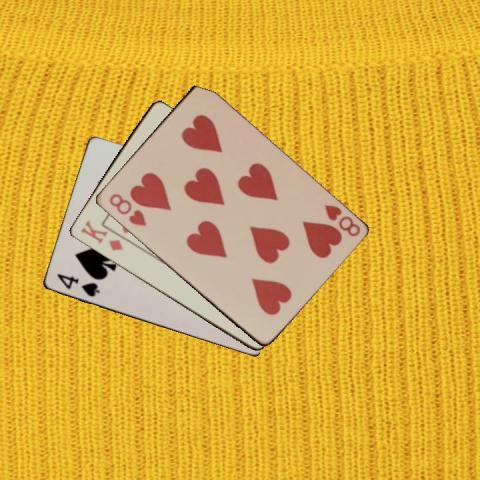4s: (54, 270, 102, 298)
8h: (105, 191, 148, 228), (321, 201, 361, 238)
Kd: (77, 217, 124, 253)
